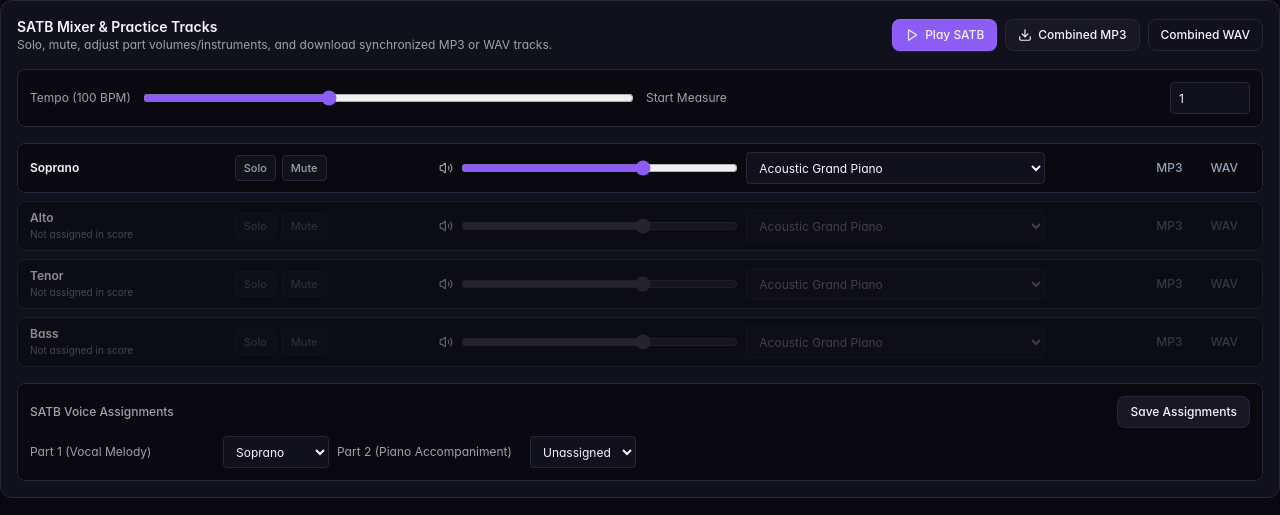
Test: SATBMixerPanel › disables unassigned voices on Piano + Vocal scores and sends unsaved voice_assignments on export
Later steps or results of the test are not shown.
Expected: the dropdown named "Assign Part 1" shows "Soprano", left=223, top=436, right=329, bottom=468
Expected: the text "Not assigned in score" is shown 3 times, left=30, top=228, right=133, bottom=240; left=30, top=286, right=133, bottom=298; left=30, top=344, right=133, bottom=356
Select "Bass" in the dropdown named "Assign Part 2" at (583, 452), box left=530, top=436, right=636, bottom=468
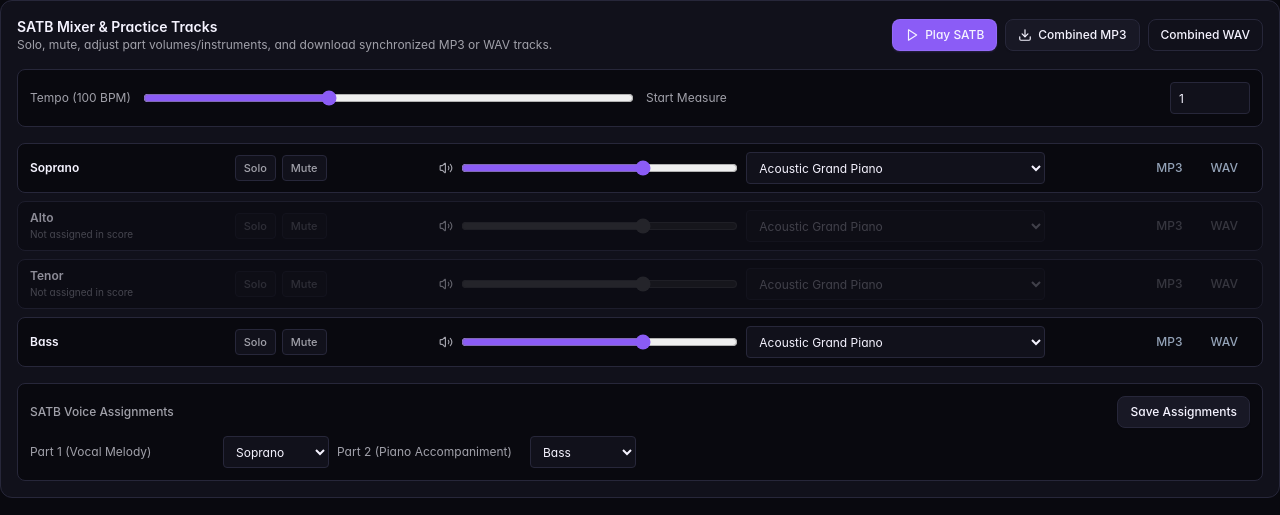
Result: the button "WAV" in the row of "Bass" is enabled at left=1198, top=326, right=1250, bottom=358
